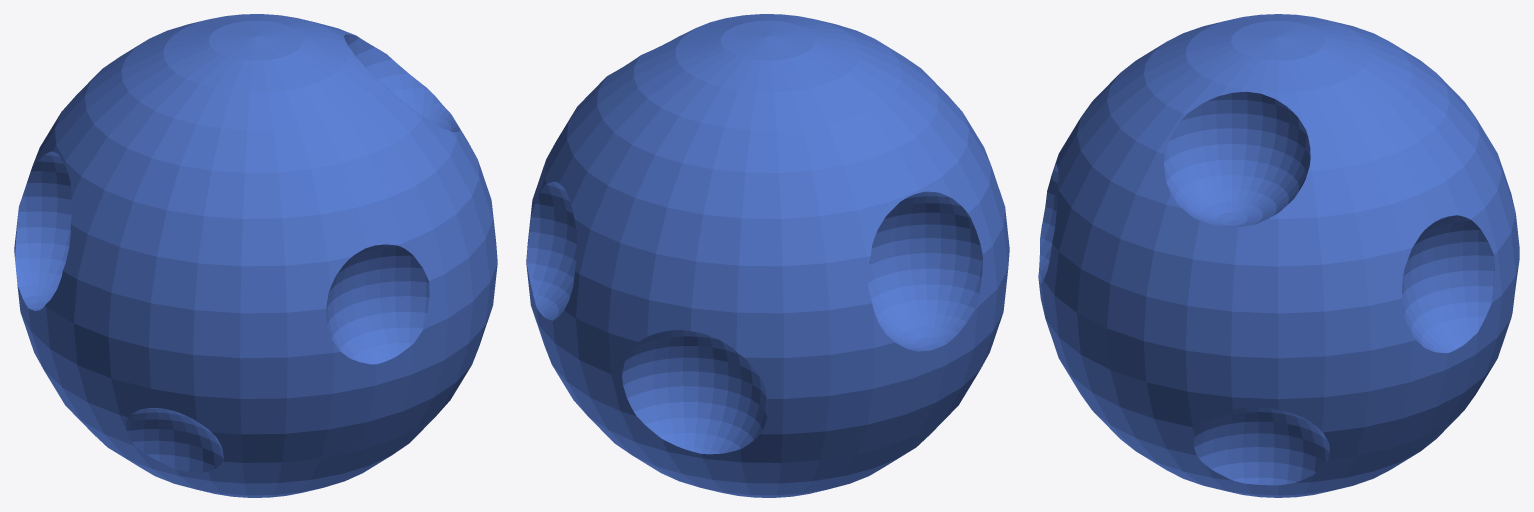
Rendered from planet1.fbx.
3 renders of one model, left to right at view 1: azimuth 30°, elevation 25°; view 2: azimuth 150°, elevation 25°; view 3: azimuth 270°, elevation 25°, orthographic.
Visible parts, largest first — view 1: Sphere; view 2: Sphere; view 3: Sphere.
Boxes of the visible parts, <box> form: Sphere: <box>14,14,497,497</box>; Sphere: <box>526,14,1009,497</box>; Sphere: <box>1038,14,1519,497</box>.
Size of the model in its own units: 600 by 600 by 596.
